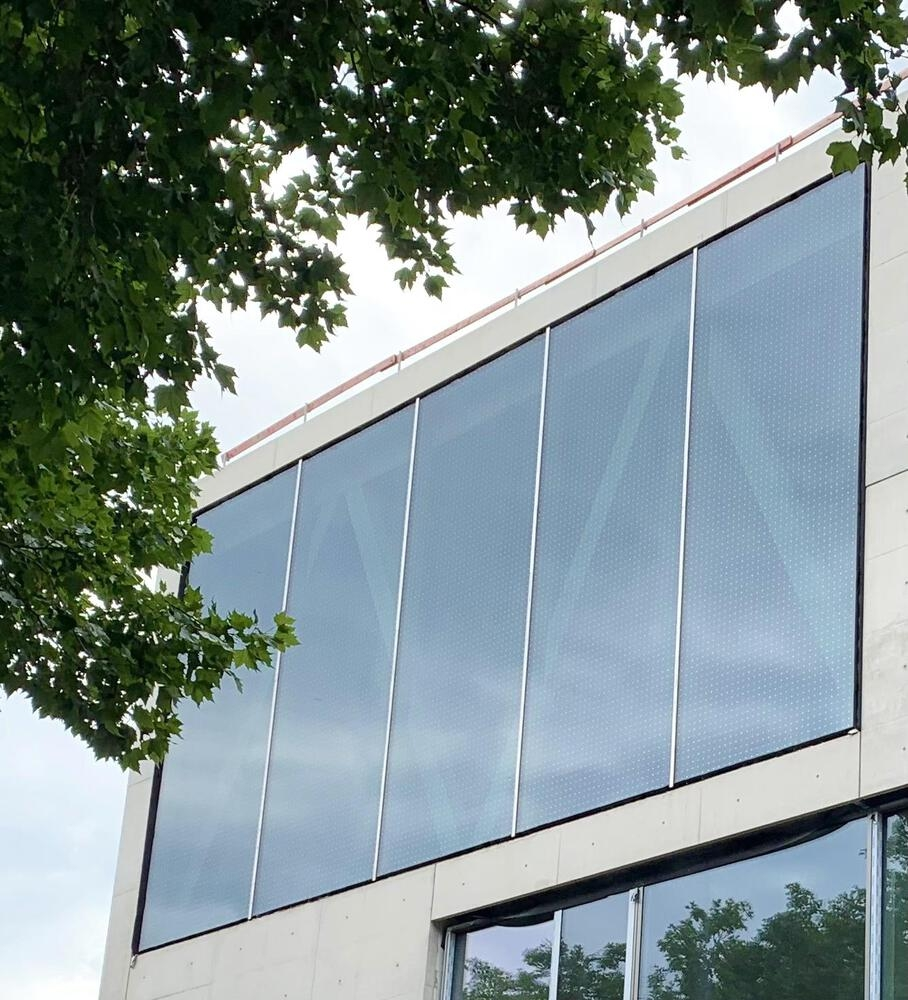glass panel: (677, 173, 864, 780), (518, 257, 691, 828), (379, 336, 543, 872), (254, 406, 413, 912), (640, 821, 866, 999), (141, 669, 273, 947), (453, 919, 552, 999), (557, 894, 627, 999), (882, 815, 907, 999)
